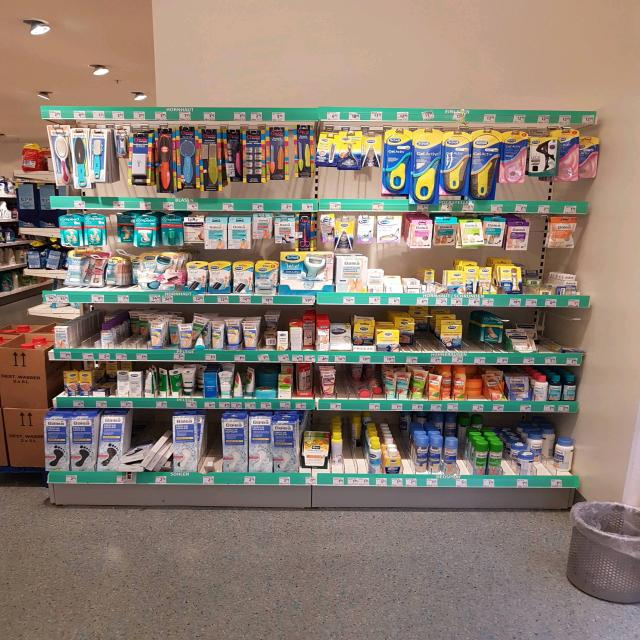unorganised: (118, 423, 174, 472), (398, 309, 463, 351), (532, 420, 573, 474), (141, 364, 200, 397), (334, 415, 366, 473), (384, 369, 442, 400), (473, 310, 507, 350), (122, 305, 152, 350), (534, 314, 559, 353), (482, 371, 510, 401), (232, 365, 256, 399), (78, 311, 101, 346), (93, 363, 117, 395), (193, 308, 211, 349), (262, 308, 279, 351), (353, 314, 374, 346), (357, 373, 383, 398), (464, 371, 483, 402), (304, 309, 317, 350), (368, 439, 384, 472), (441, 366, 453, 398), (169, 315, 179, 347)
